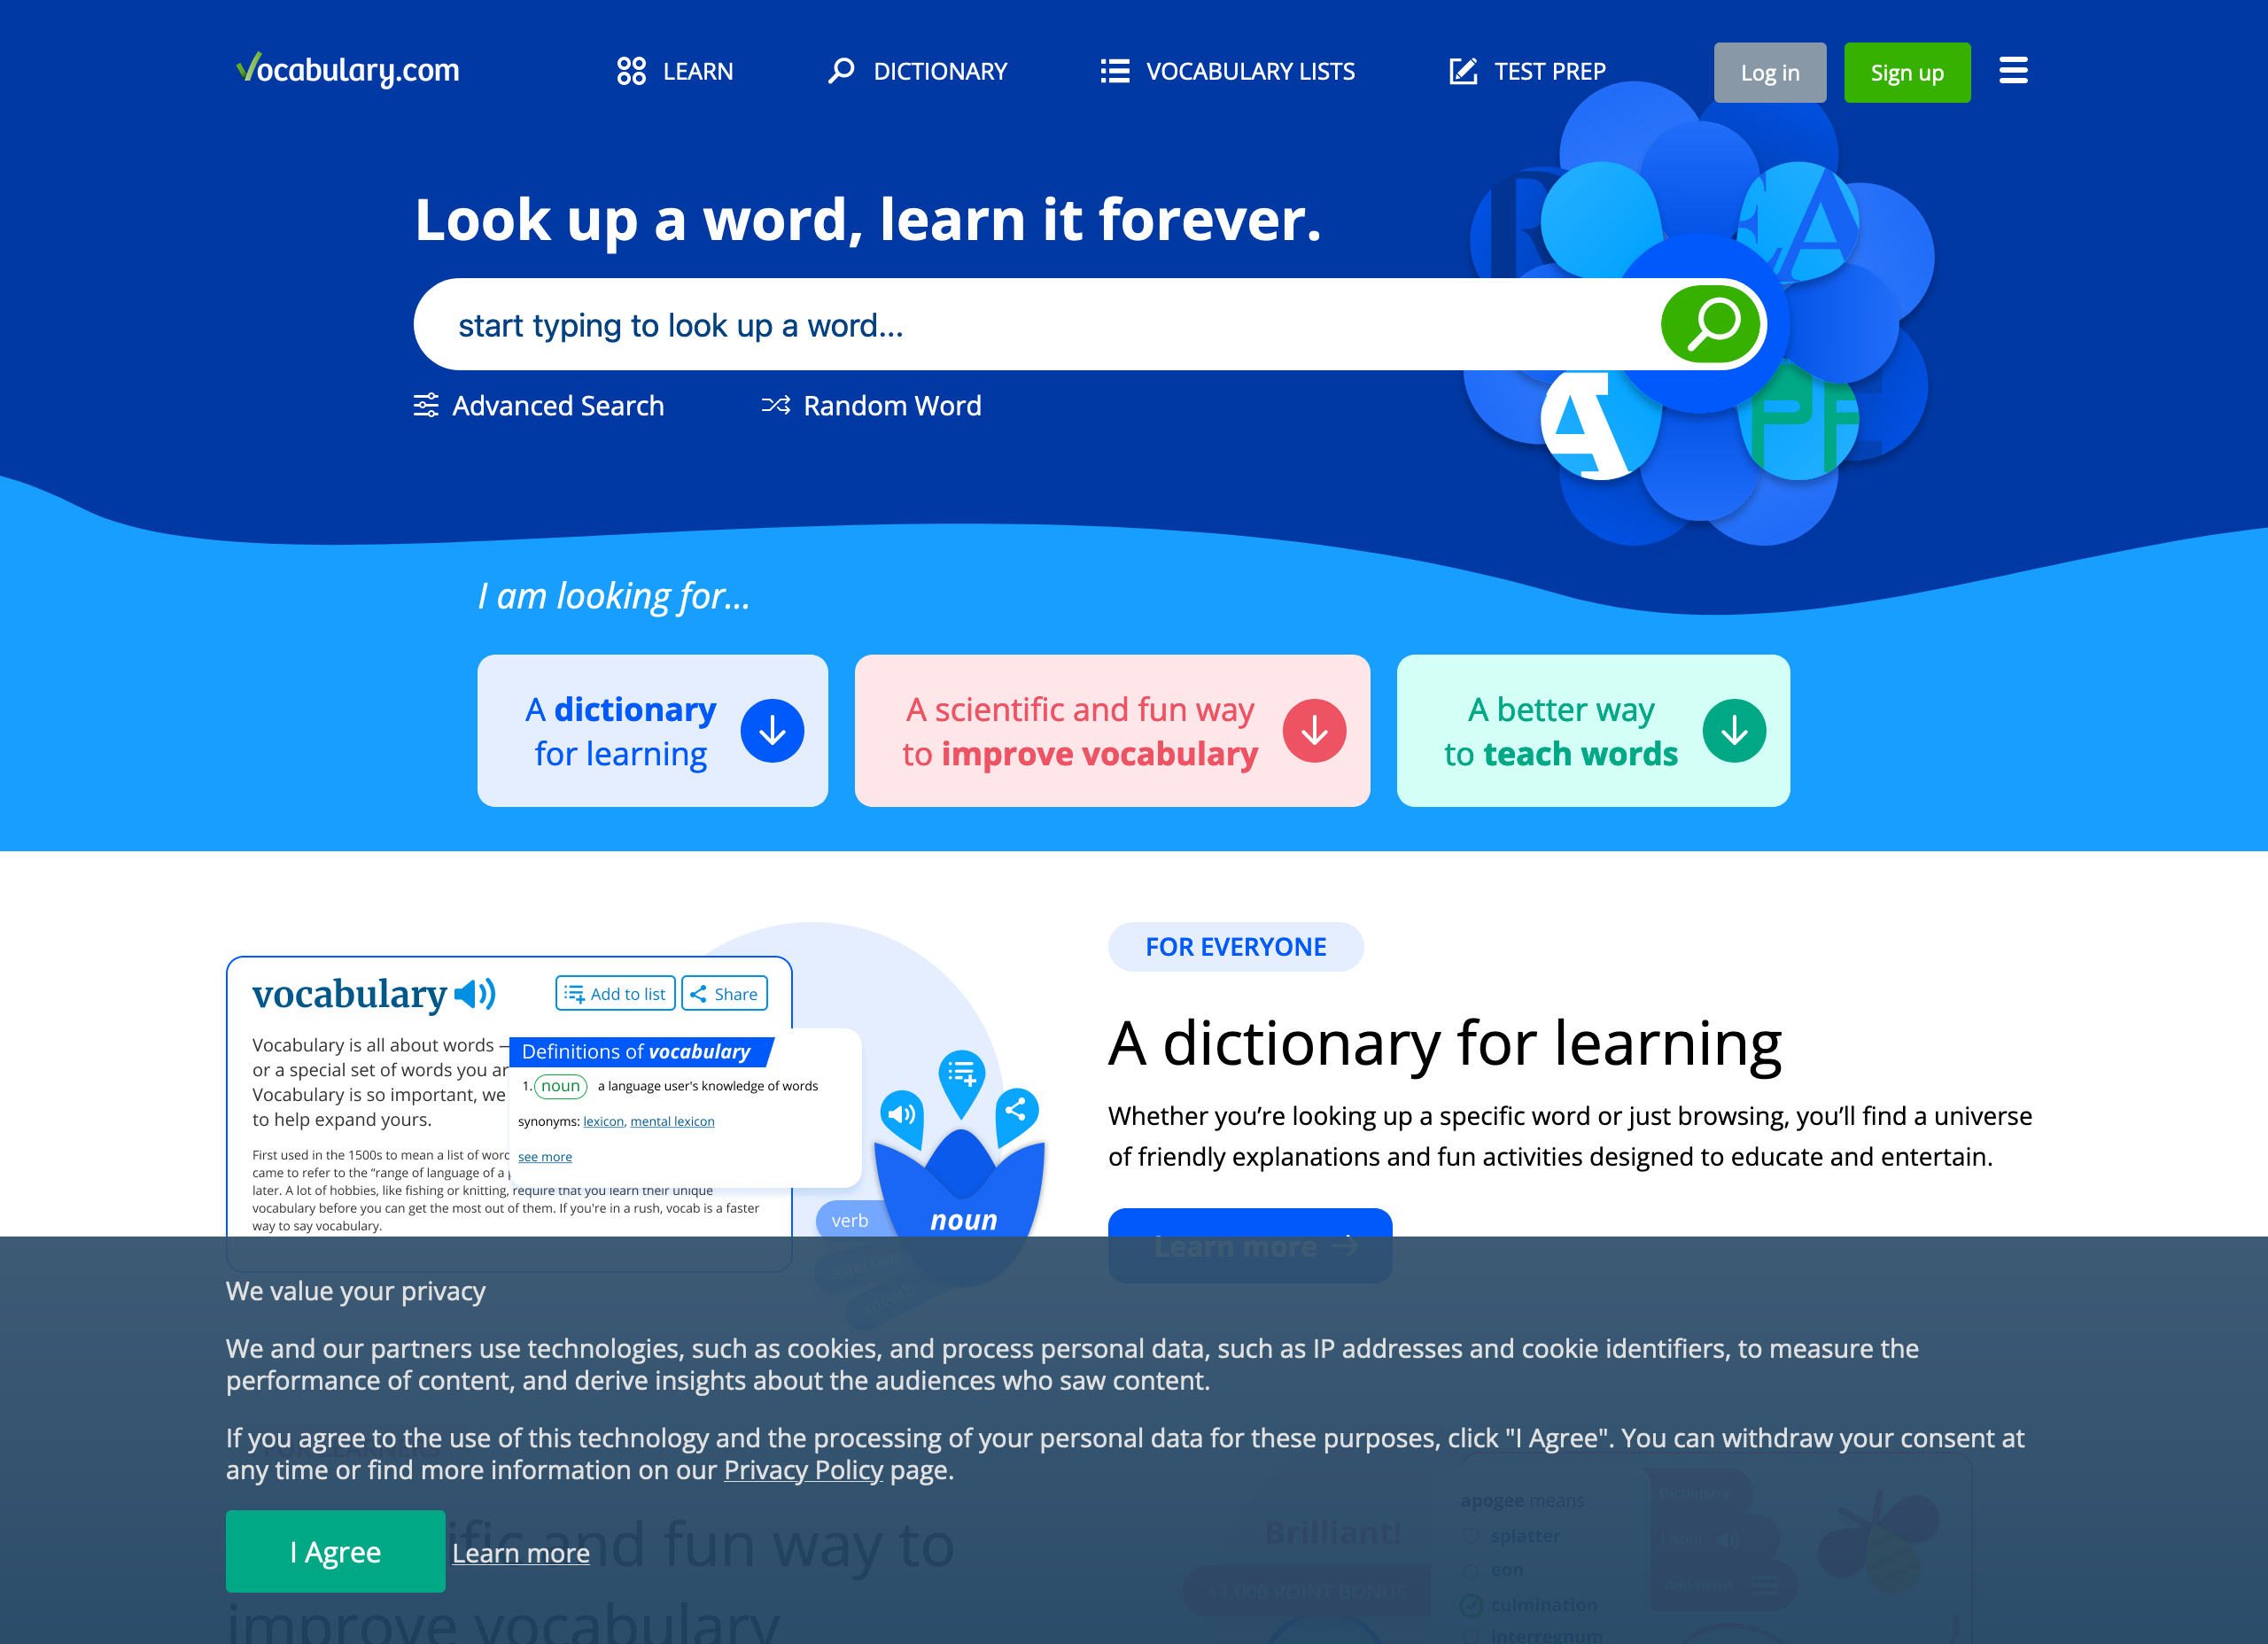Login: (1706, 33, 1835, 111)
